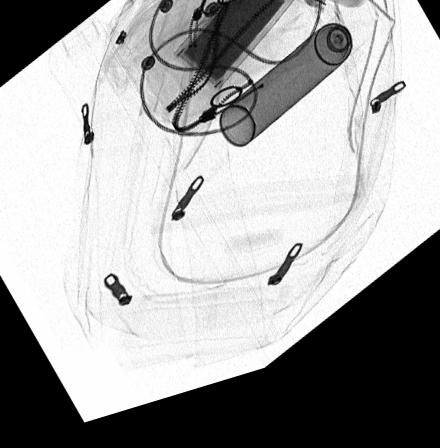Powerbank: (172, 0, 305, 104)
Sprayer: (219, 22, 374, 160)
